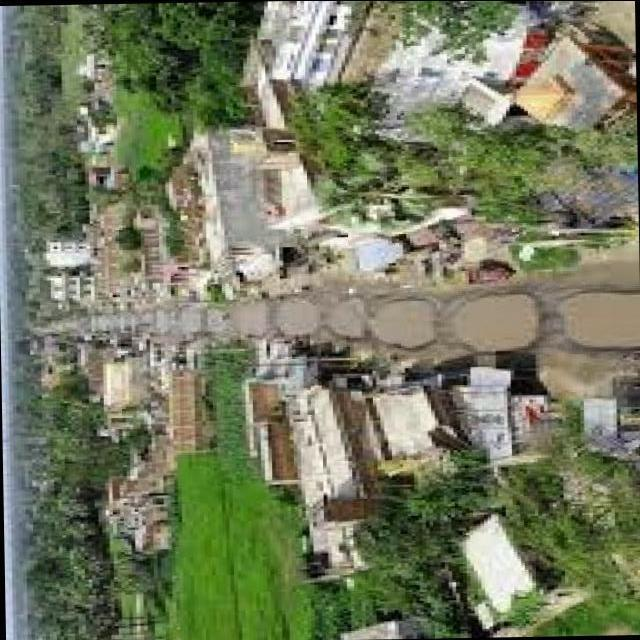pothole: (455, 292, 539, 351), (560, 290, 640, 349), (374, 298, 437, 345), (276, 300, 316, 332), (331, 304, 364, 335)
